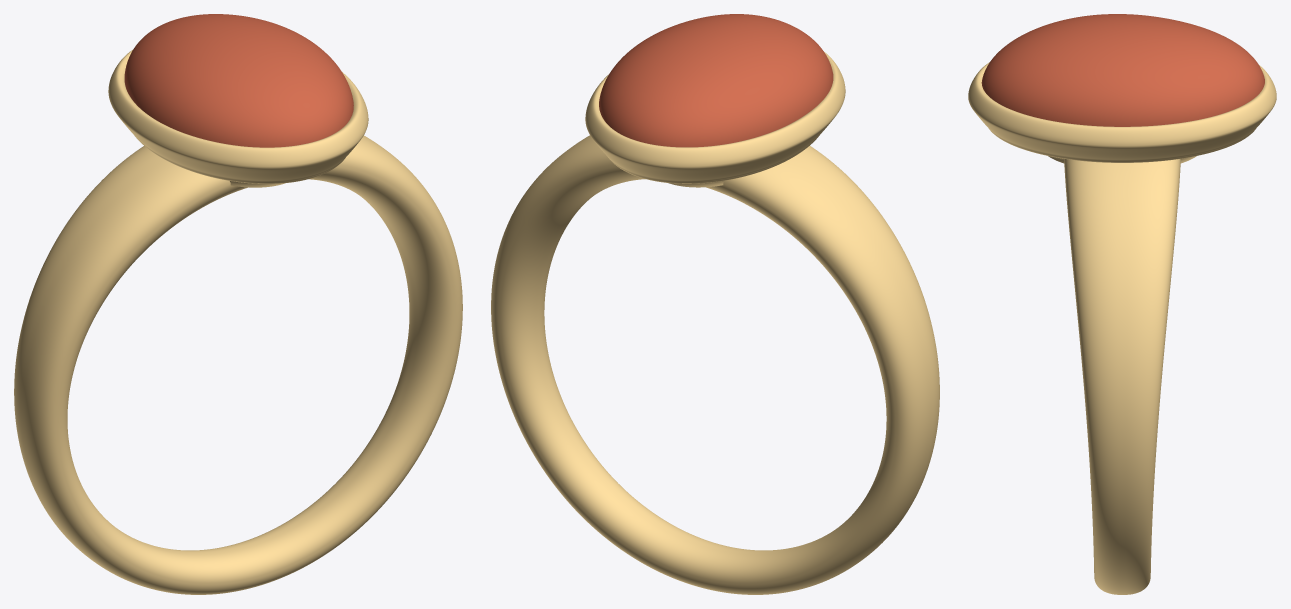
File: vyoma-classic-moonga.glb
The picture shows the model from 3 angles, left to right: view 1: azimuth 30°, elevation 25°; view 2: azimuth 150°, elevation 25°; view 3: azimuth 270°, elevation 25°; orthographic projection.
Visible parts, largest first — view 1: shank, stone, metal; view 2: shank, stone, metal; view 3: shank, stone, metal.
Boxes of the visible parts, x1,y1,x2,y2 form: shank: (14,135,462,594); stone: (124,14,353,147); metal: (108,50,368,187); shank: (491,135,939,594); stone: (599,14,833,147); metal: (585,52,845,187); shank: (1064,159,1180,594); stone: (981,14,1264,126); metal: (968,62,1276,163).
Bounding box in the file's own units: 2.1 × 2.54 × 1.31.
